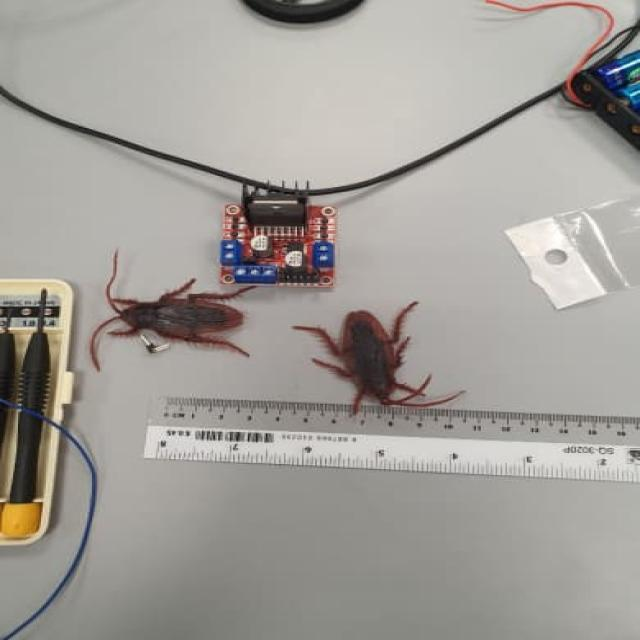Cockroach: (76, 249, 264, 374), (290, 296, 458, 424)
